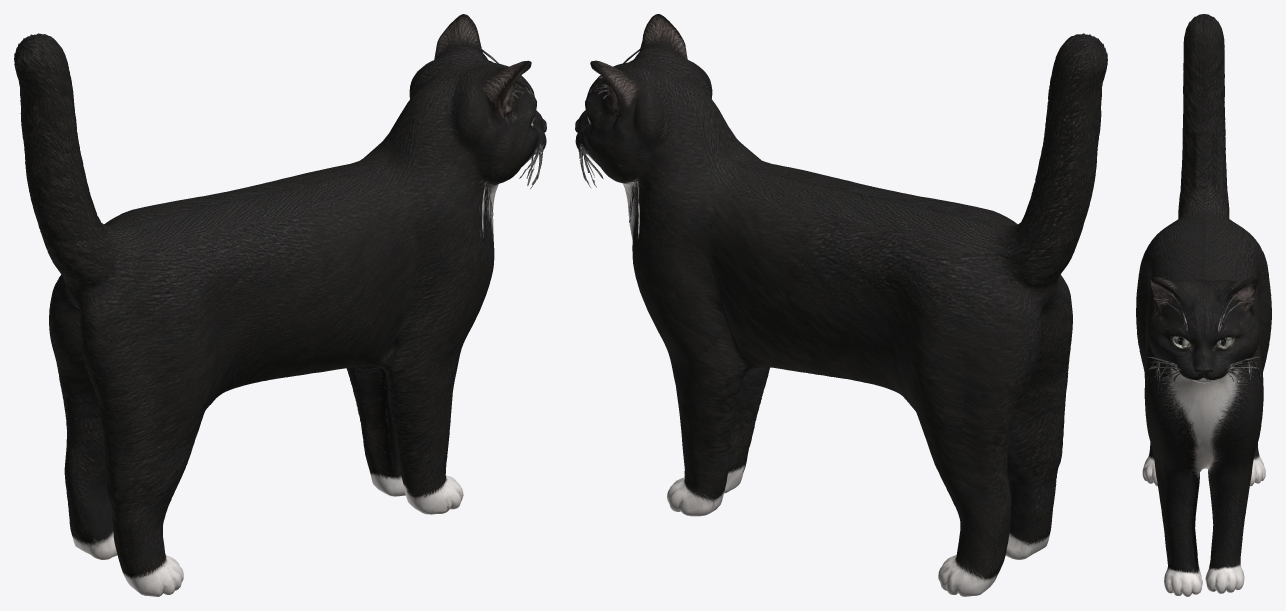
The model's file is MAXWELLCAT.glb.
3 renders of one model, left to right at view 1: azimuth 30°, elevation 25°; view 2: azimuth 150°, elevation 25°; view 3: azimuth 270°, elevation 25°, orthographic. The views are drawn at different scales.
Visible parts, largest first — view 1: tripo_node_64595413-6830-49c2-9f21-5dadfc09b10c; view 2: tripo_node_64595413-6830-49c2-9f21-5dadfc09b10c; view 3: tripo_node_64595413-6830-49c2-9f21-5dadfc09b10c.
Part boxes in pixels (x1=…): tripo_node_64595413-6830-49c2-9f21-5dadfc09b10c: x1=14, y1=14, x2=546, y2=596; tripo_node_64595413-6830-49c2-9f21-5dadfc09b10c: x1=575, y1=14, x2=1107, y2=596; tripo_node_64595413-6830-49c2-9f21-5dadfc09b10c: x1=1136, y1=14, x2=1271, y2=596.
Size of the model in its own units: 0.995 by 0.9998 by 0.2862.
1 material, 1 textured.
